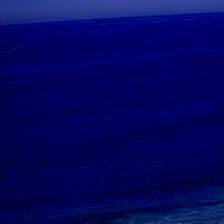surfer: (28, 214, 39, 218), (208, 181, 214, 185), (123, 202, 127, 207), (112, 202, 115, 208), (164, 179, 168, 183), (185, 176, 189, 180), (119, 186, 122, 191), (152, 190, 155, 194), (177, 194, 180, 197), (132, 190, 134, 194)
